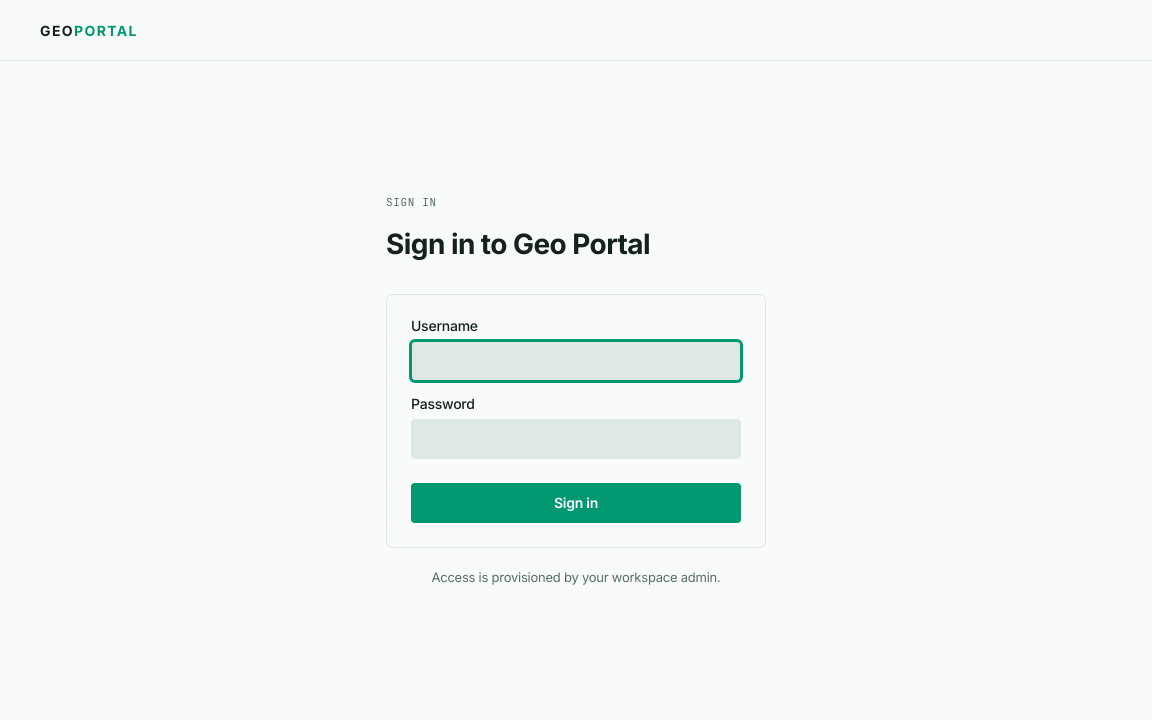
Test: sign-in form › enters the workspace on valid credentials
Check: the heading "Sign in to Geo Portal" is shown, box [386,226,650,260]
Type "viewer1" into the field labelled "Username" at (576, 360), box [411,340,741,380]
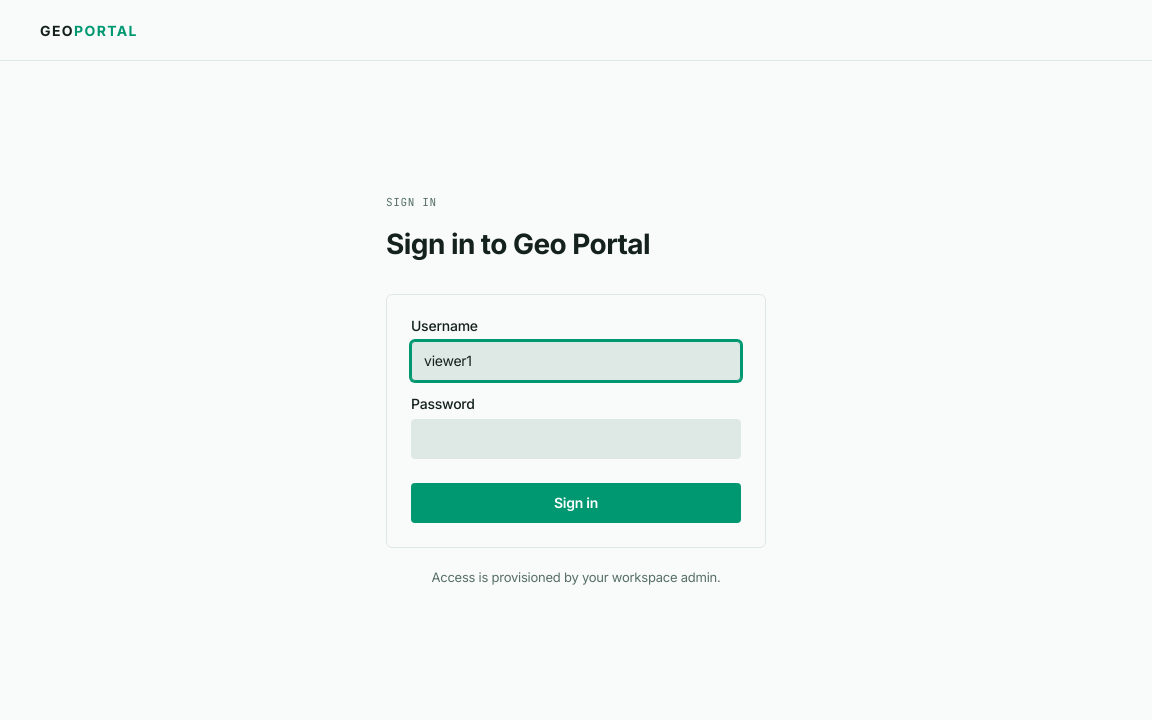
Type "correct" into the password field labelled "Password" at (576, 438), box [411,418,741,458]
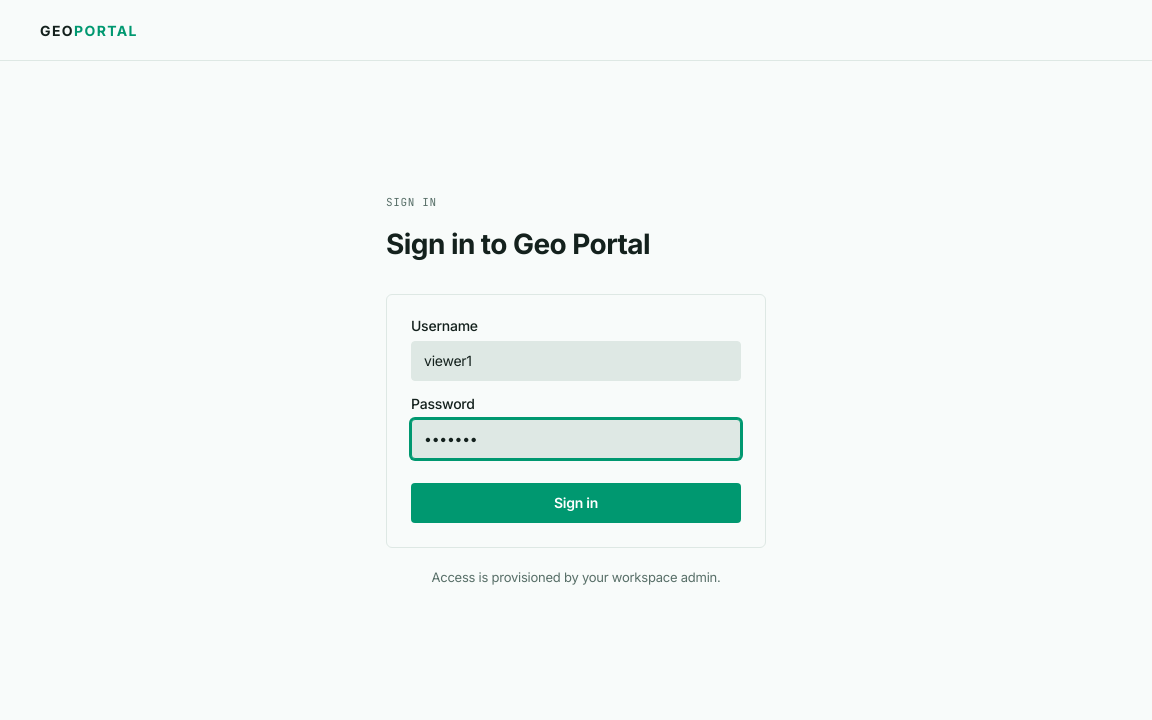
Click the button "Sign in" at (576, 502), box [411,482,741,522]
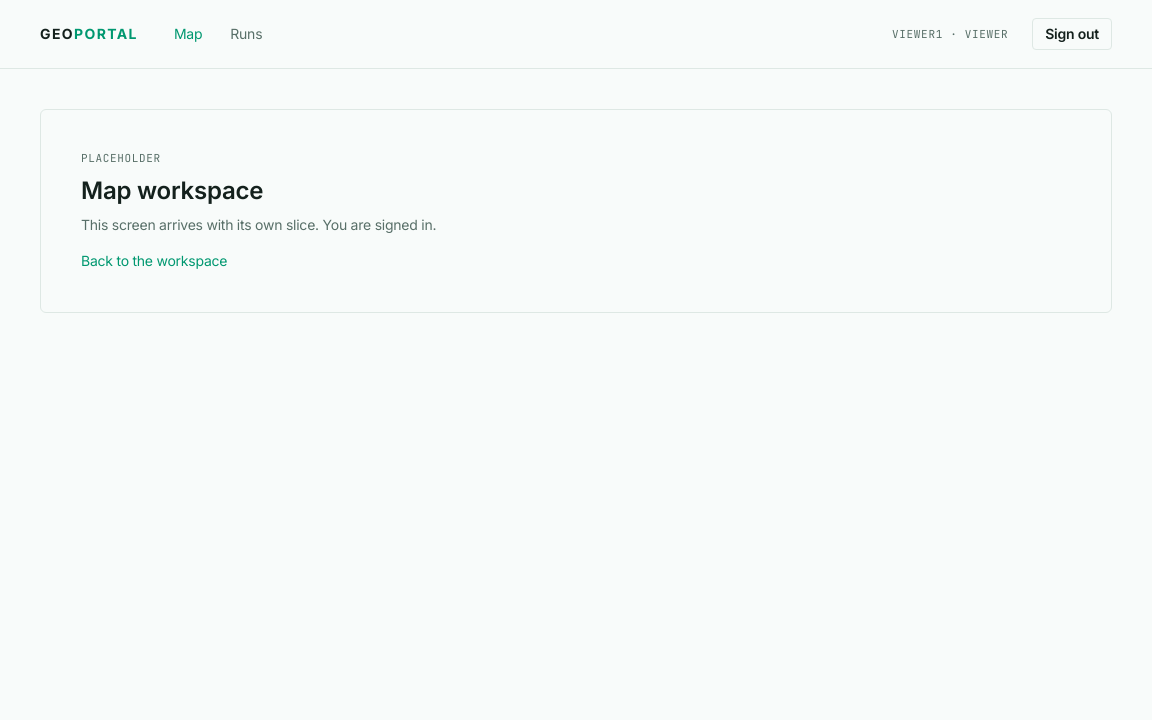
Check: the text "viewer1 · viewer" is shown, box [892,26,1008,42]
